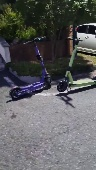beam: (7, 35, 55, 101)
gcooter: (56, 37, 96, 93)
